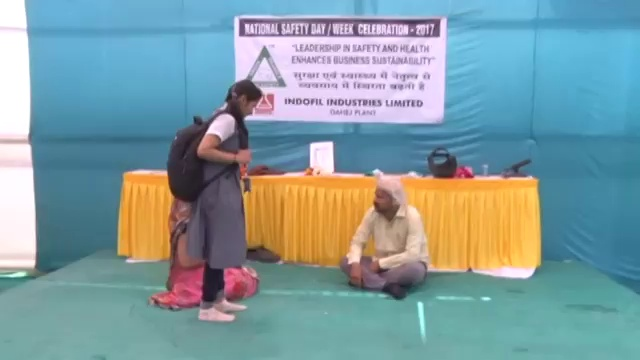helmet_off: (224, 80, 262, 121), (371, 183, 403, 218)
person: (166, 80, 264, 324), (340, 181, 429, 300)
